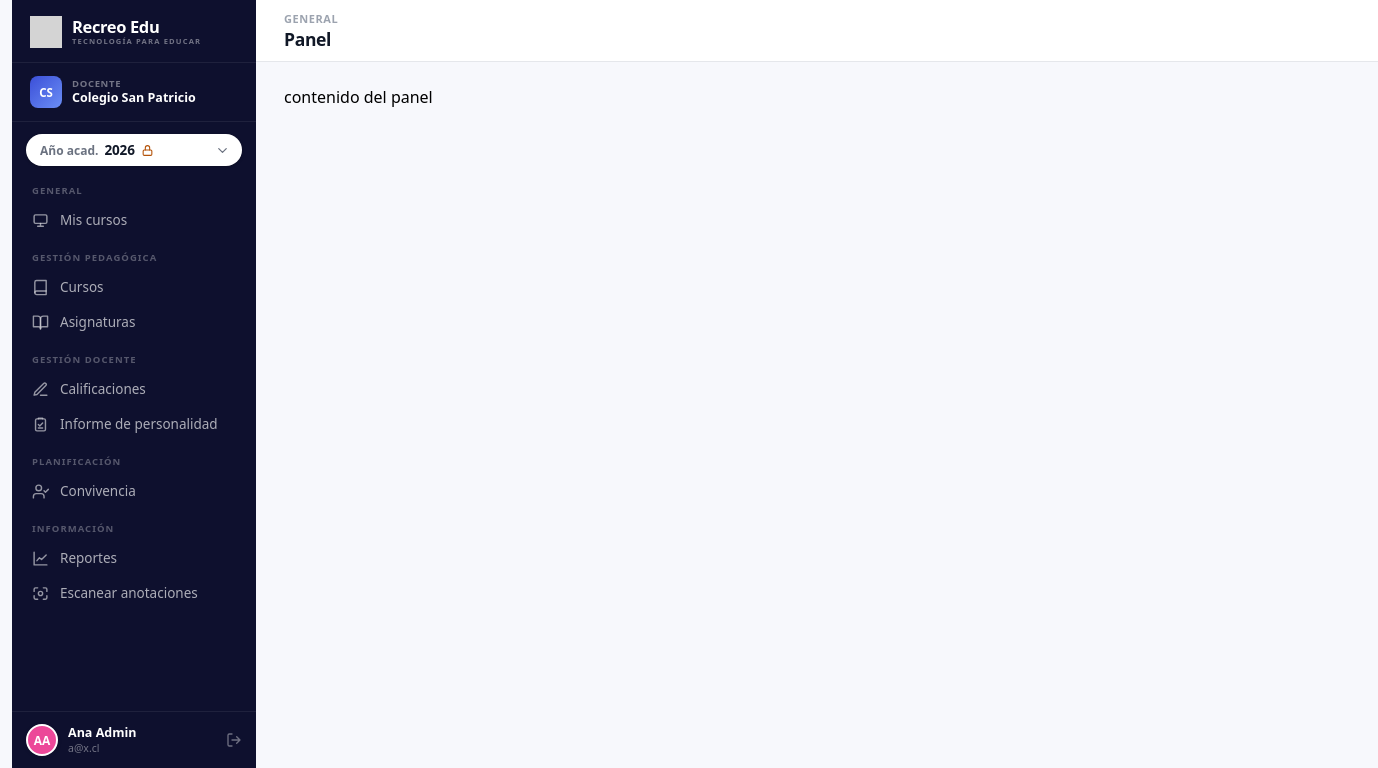
Test: profesor ve el selector pero no la gestión
The image size is (1378, 768).
What coordinates should you click on to do the following:
click the button "Año acad. 2026"
I would click on:
 (134, 150)
Its box is [26,134,242,166].
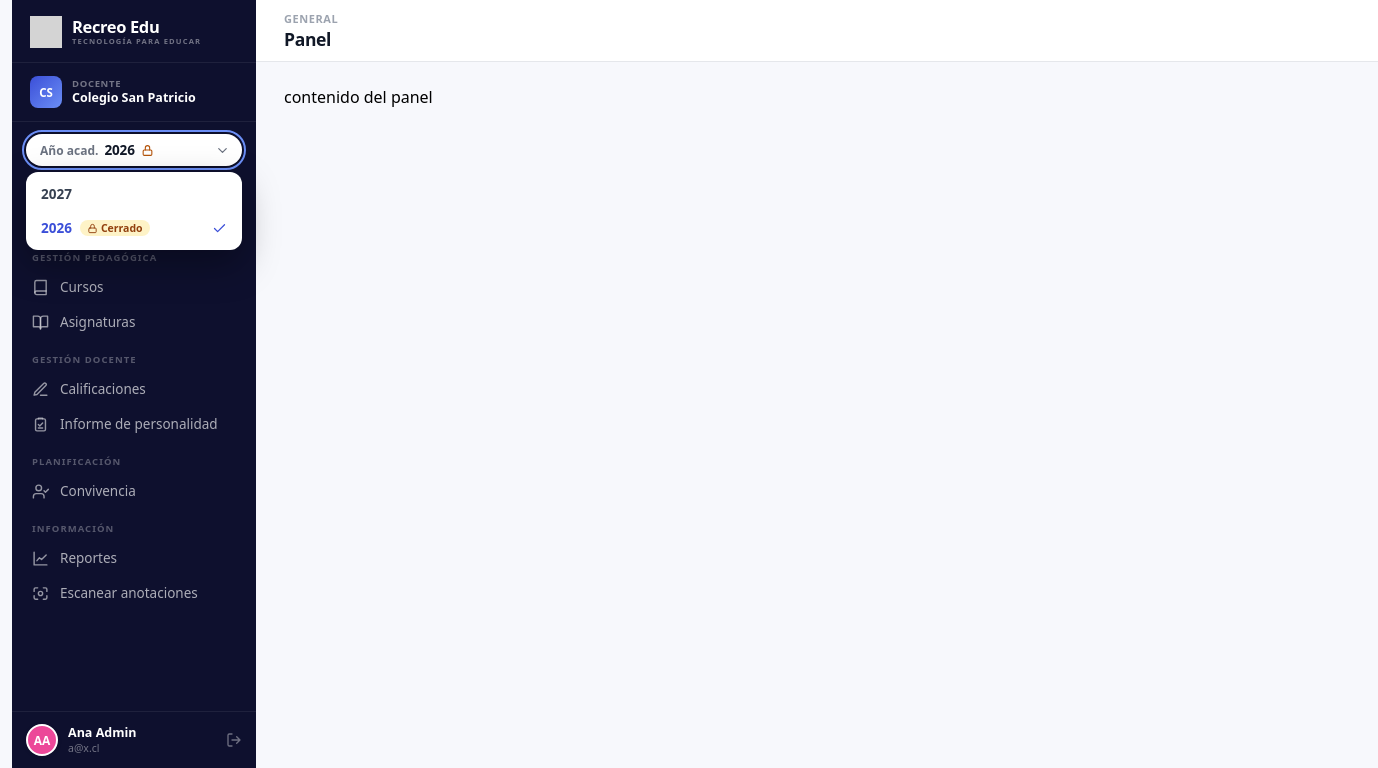
Expected: the list is shown, [26,172,242,250]
